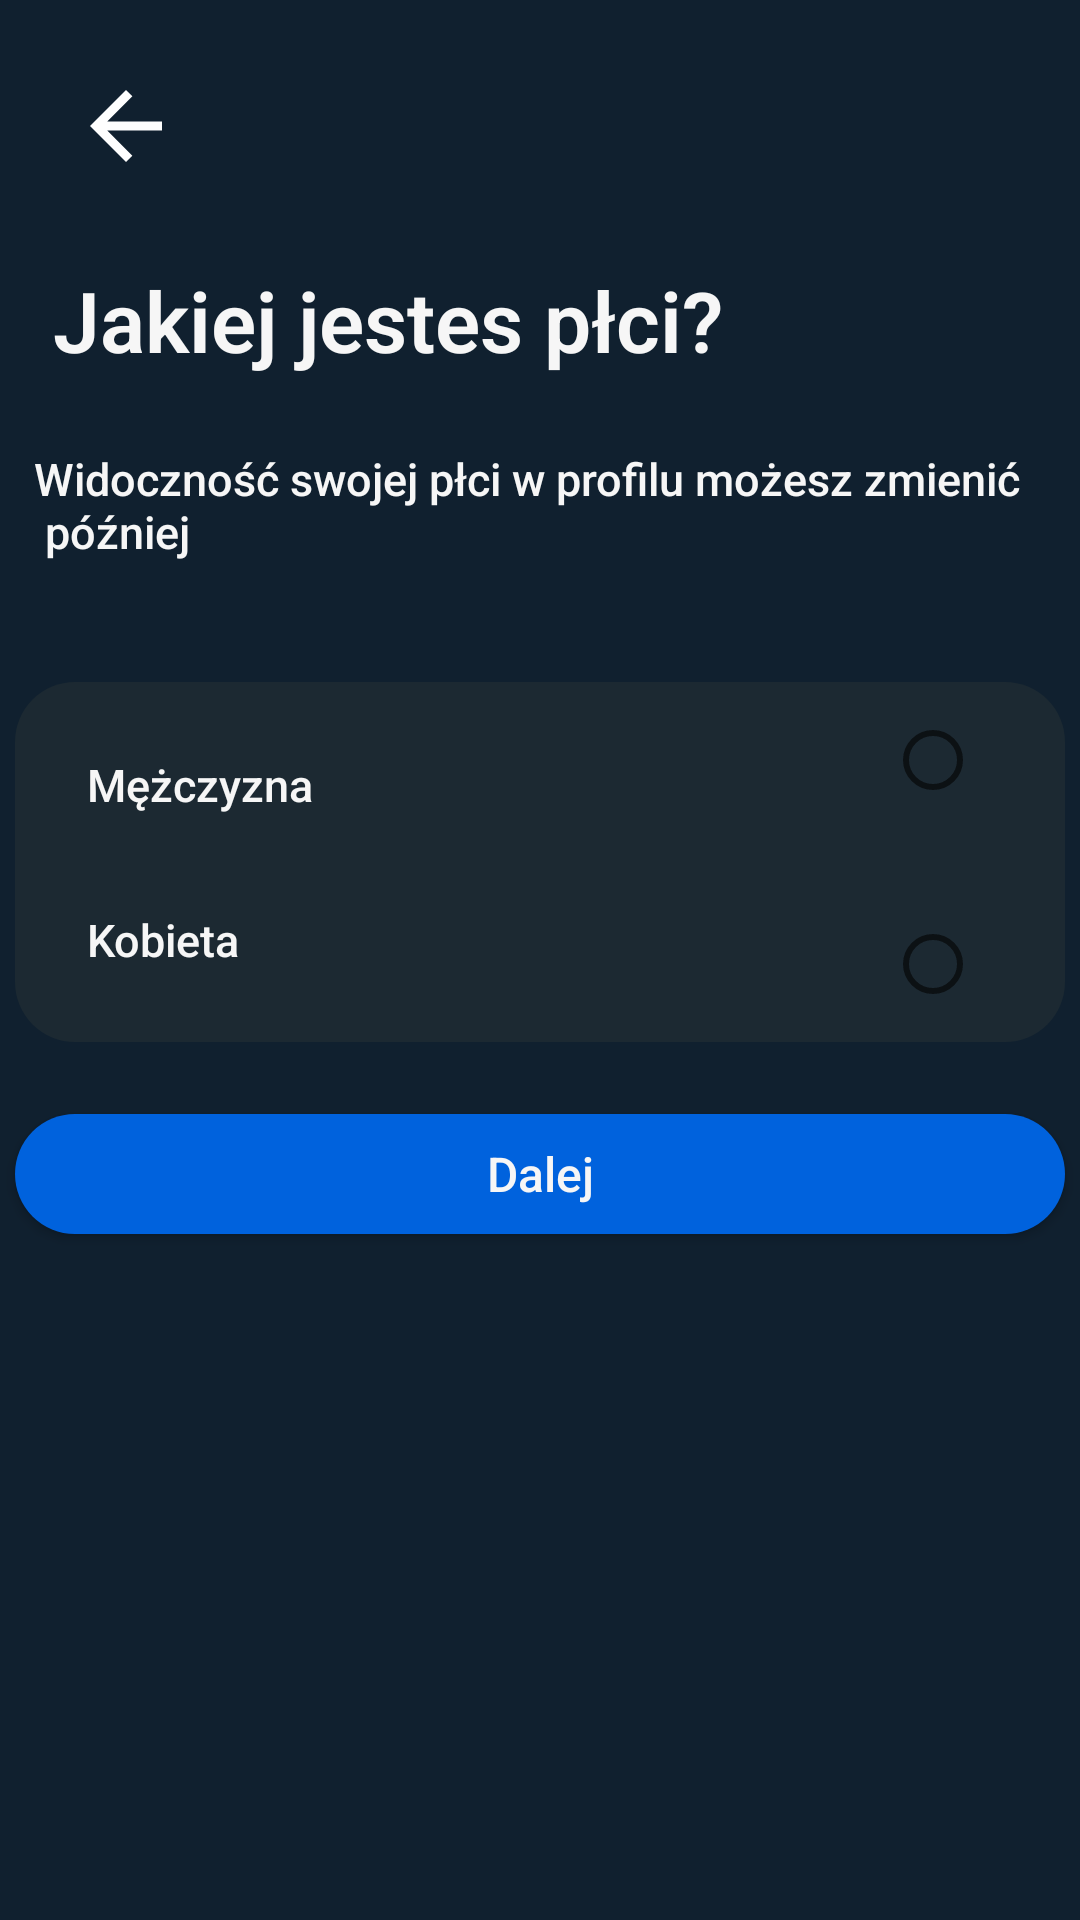

Named icons in this screenshot (1080×1920) and their bounding boxes, (x1, y1, x2, y2):
arrow back: (90, 90, 162, 162)
